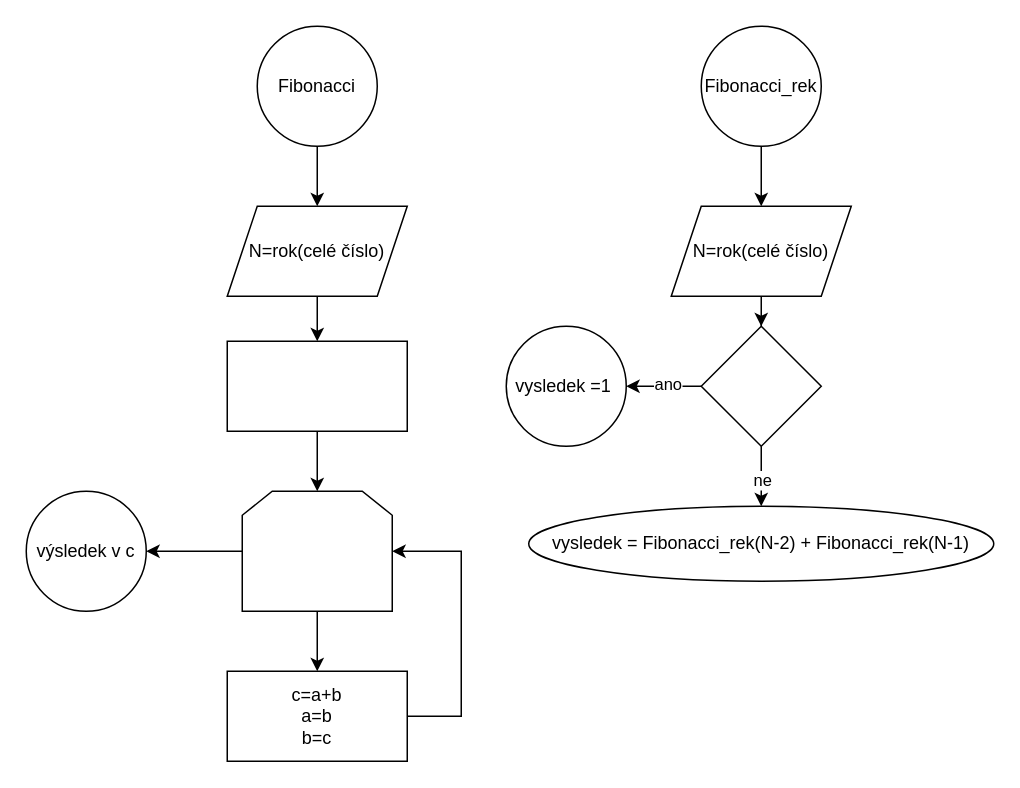
The diagram is 1020 pixels wide and 788 high, and some of its shapes have lost their labels. The shapes that lost their labels are listed below. From the top down, each one's centre as x and y in pixels, then its label:
At (x=316, y=385): "a,b = 1".
At (x=760, y=385): "N=1 nebo 2".
At (x=316, y=550): "N-2 krát".
